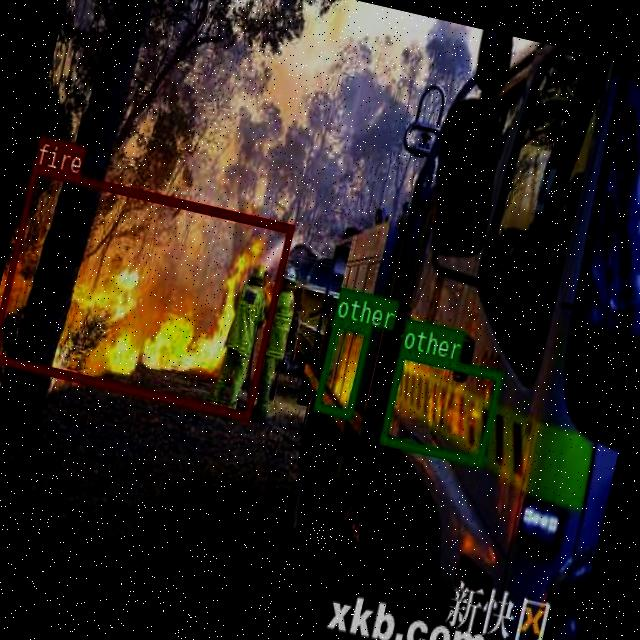fire: (0, 164, 293, 419)
